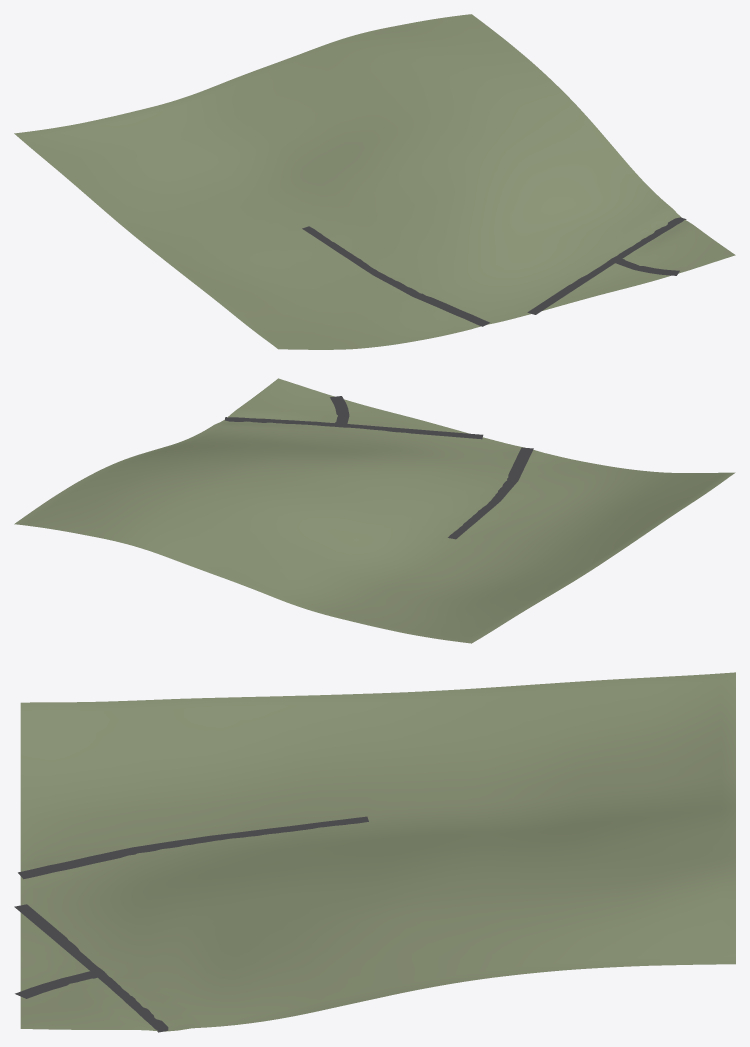
3 views of the same model, one above another, from view 1: azimuth 30°, elevation 25°; view 2: azimuth 150°, elevation 25°; view 3: azimuth 270°, elevation 25° (orthographic). The views are drawn at different scales.
Visible parts, largest first — view 1: ground, road; view 2: ground, road; view 3: ground, road.
Part boxes in pixels (x1,y1,x2,y2): ground: [14, 14, 735, 349]; road: [302, 217, 686, 326]; ground: [14, 378, 735, 643]; road: [225, 396, 533, 539]; ground: [20, 672, 735, 1031]; road: [14, 816, 368, 1032].
Bounding box in the file's own units: 251 × 33.94 × 252.
